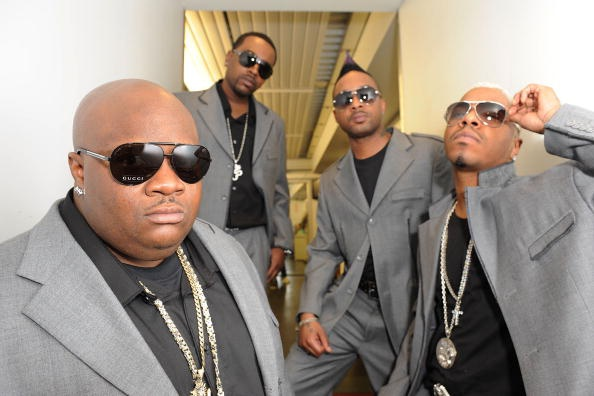bad: (96, 125, 225, 254), (331, 84, 383, 136), (228, 50, 271, 94)
